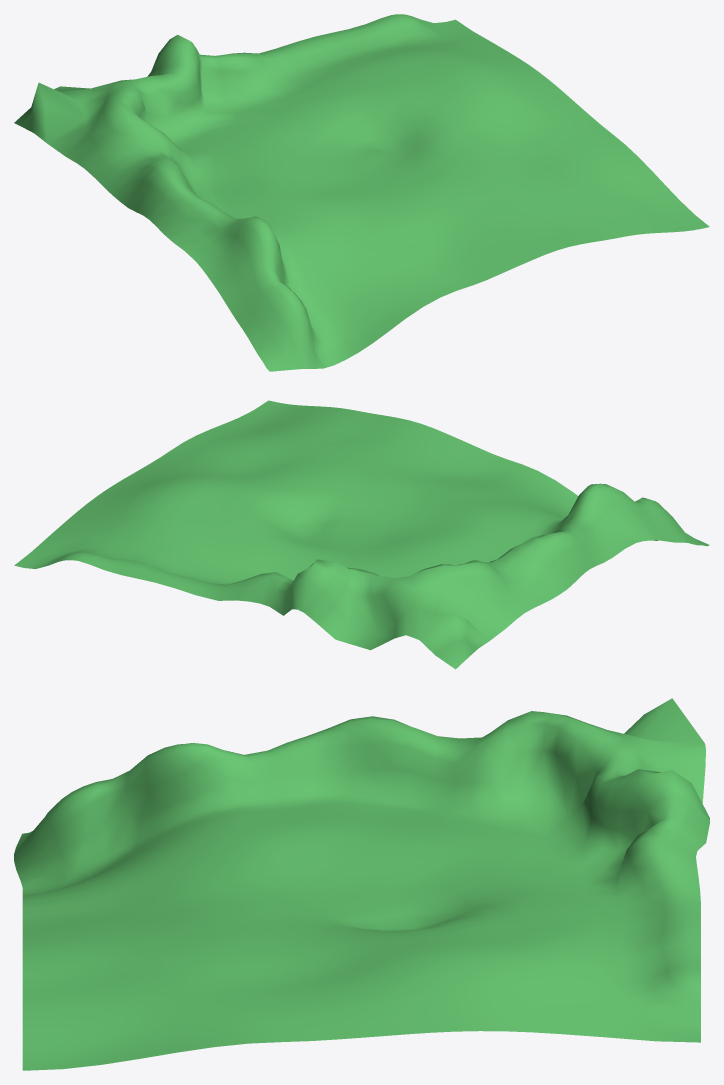
File: ground1.fbx
3 renders of one model, top to bottom at view 1: azimuth 30°, elevation 25°; view 2: azimuth 150°, elevation 25°; view 3: azimuth 270°, elevation 25°, orthographic. The views are drawn at different scales.
Parts seen in each view (by area): view 1: ground1_1; view 2: ground1_1; view 3: ground1_1.
Boxes of the visible parts, x1,y1,x2,y2 form: ground1_1: [14, 14, 709, 371]; ground1_1: [14, 400, 709, 669]; ground1_1: [14, 698, 709, 1070].
Bounding box in the file's own units: 6671579 × 1892701 × 6811100.
